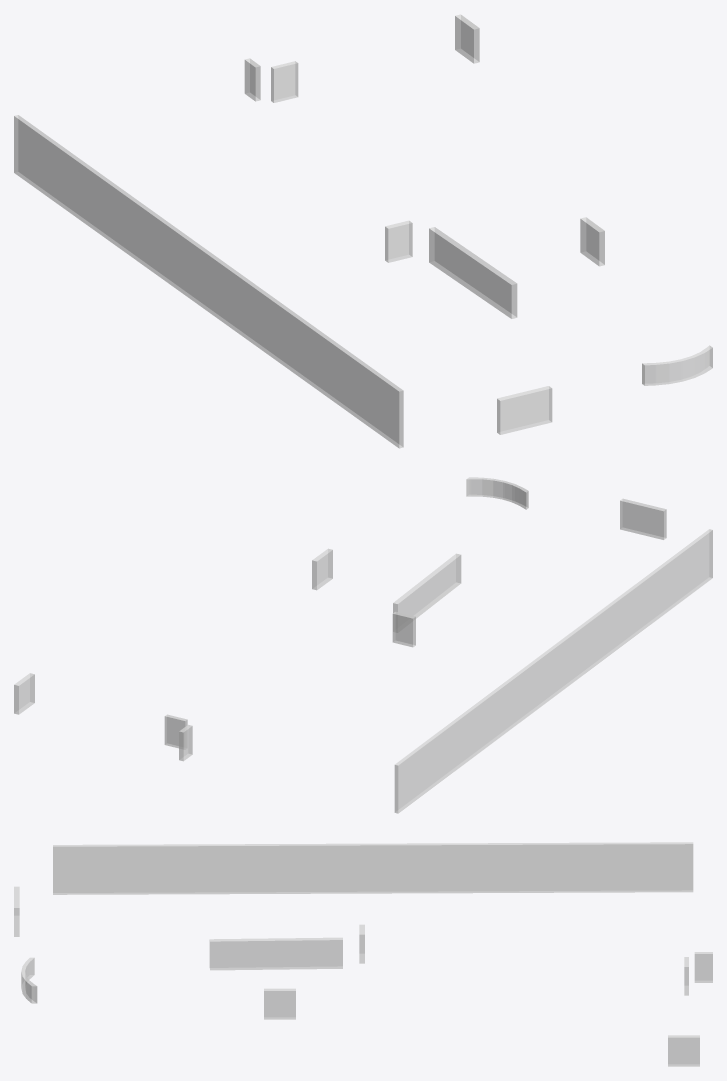
The model's file is transparent_f1.obj.
3 renders of one model, top to bottom at view 1: azimuth 30°, elevation 25°; view 2: azimuth 150°, elevation 25°; view 3: azimuth 270°, elevation 25°, orthographic. The views are drawn at different scales.
Visible parts, largest first — view 1: Cube_Cube.002; view 2: Cube_Cube.002; view 3: Cube_Cube.002.
Boxes of the visible parts, x1,y1,x2,y2 form: Cube_Cube.002: (14, 14, 712, 448); Cube_Cube.002: (14, 477, 712, 813); Cube_Cube.002: (14, 842, 712, 1066).
Size of the model in its own units: 12.73 by 1.54 by 20.23.
